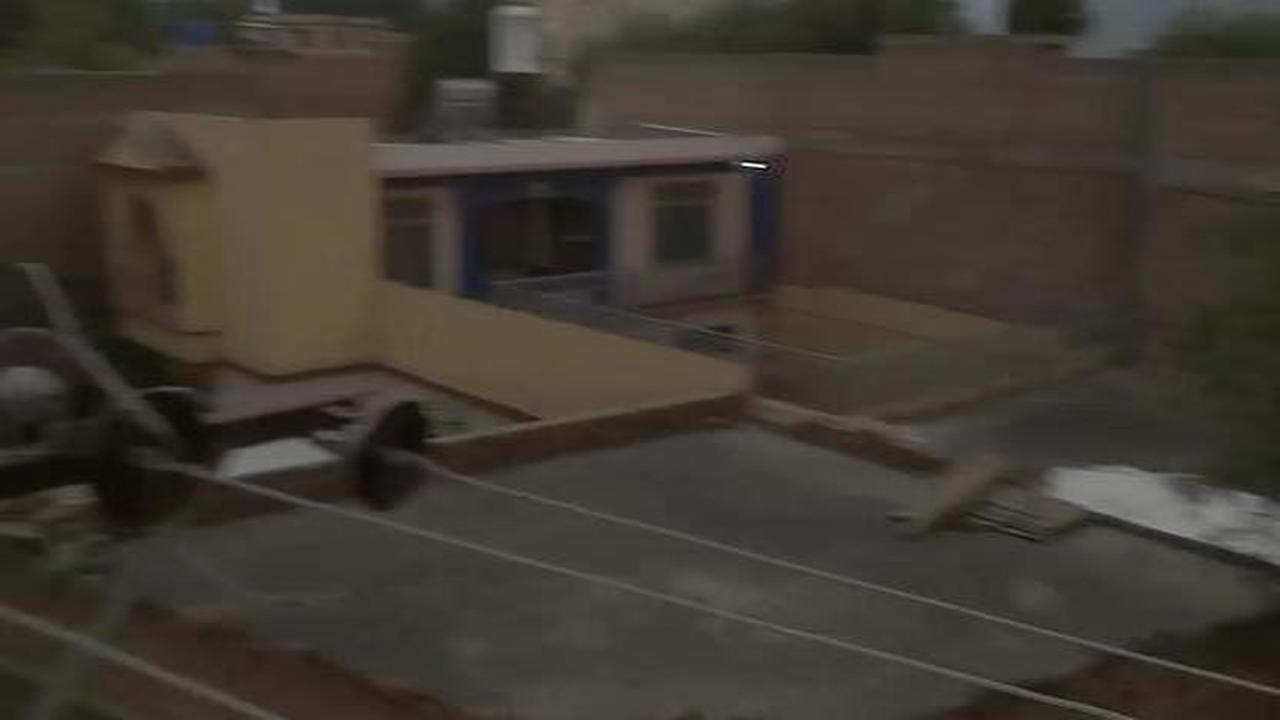insulator_disc: (91, 387, 209, 533), (335, 398, 437, 508)
